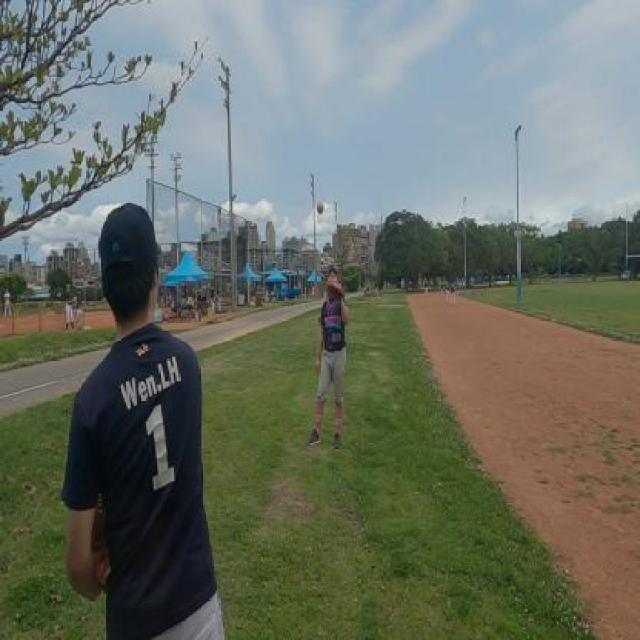baseball: (316, 200, 324, 214)
